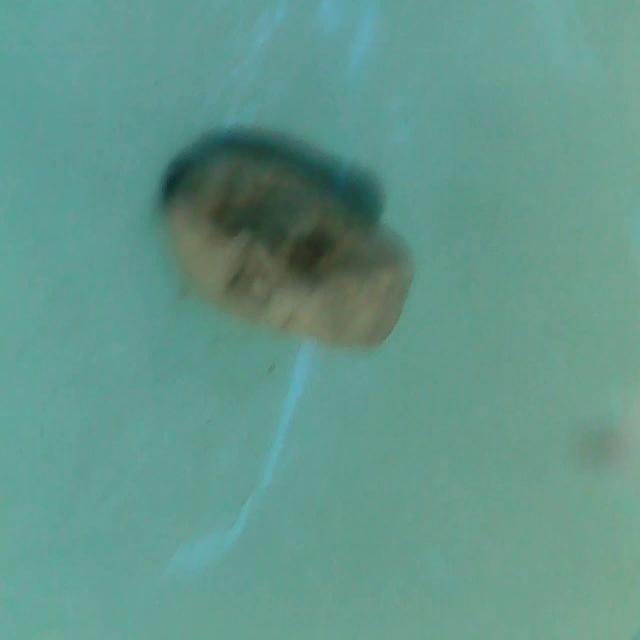rock: (150, 130, 428, 362)
